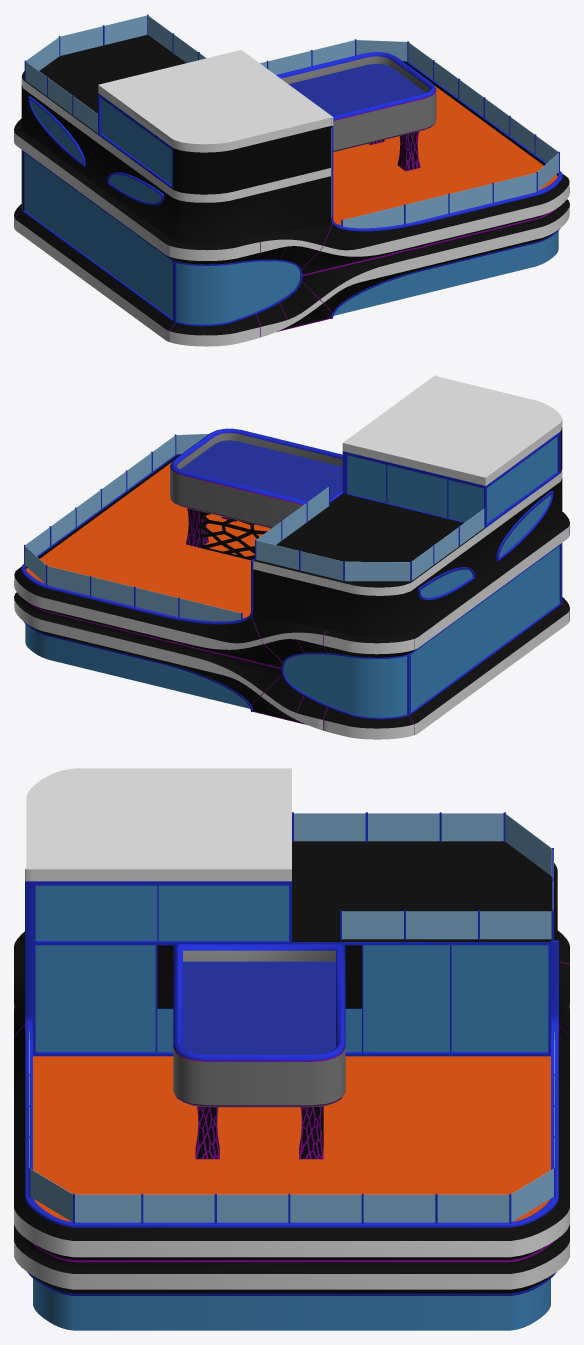
The model's file is SM_Building_MK3_Up_01.fbx.
The picture shows the model from 3 angles, top to bottom: view 1: azimuth 30°, elevation 25°; view 2: azimuth 150°, elevation 25°; view 3: azimuth 270°, elevation 25°; orthographic projection. The views are drawn at different scales.
Parts seen in each view (by area): view 1: UP_01; view 2: UP_01; view 3: UP_01.
Part boxes in pixels (<box>): UP_01: <box>14,14,569,346</box>; UP_01: <box>14,375,569,739</box>; UP_01: <box>14,768,569,1330</box>.
Size of the model in its own units: 2092 by 1000 by 1731.
